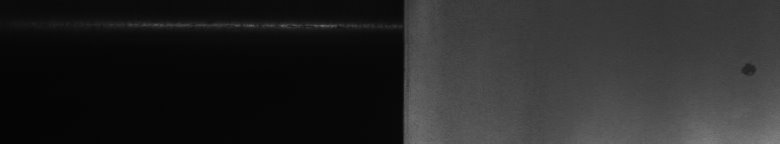fi: (740, 56, 760, 80)
